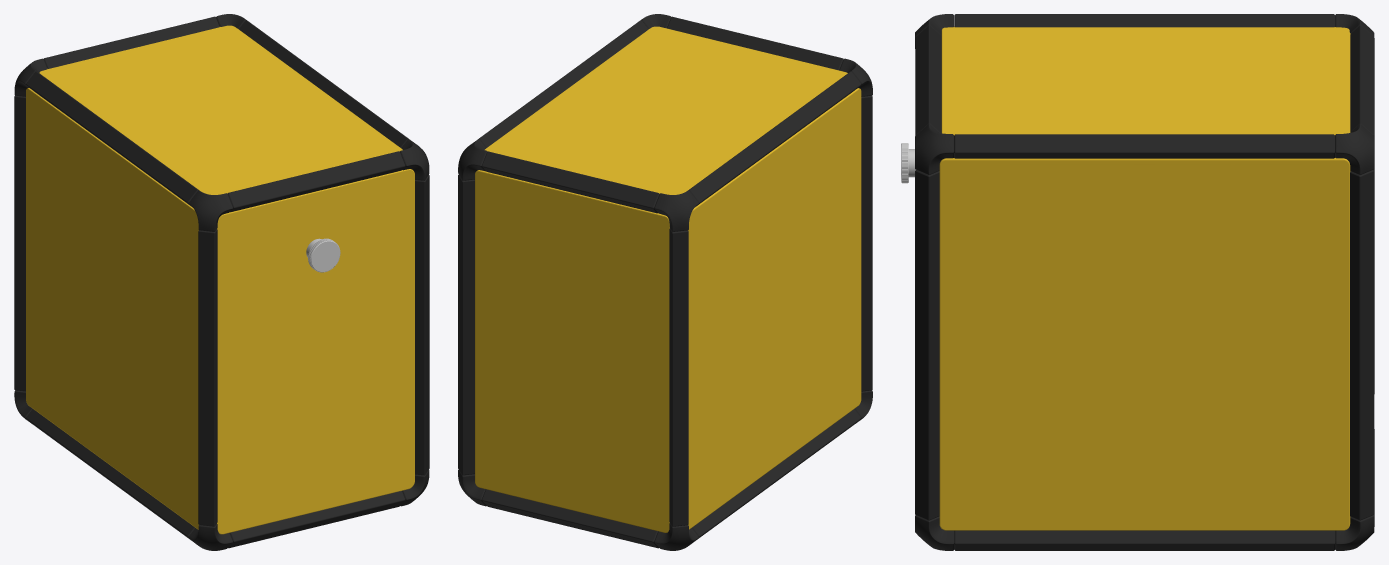
The picture shows the model from 3 angles, left to right: view 1: azimuth 30°, elevation 25°; view 2: azimuth 150°, elevation 25°; view 3: azimuth 270°, elevation 25°; orthographic projection. The views are drawn at different scales.
Visible parts, largest first — view 1: 229x374x374; view 2: 229x374x374; view 3: 229x374x374.
Part boxes in pixels (x1,y1,x2,y2): 229x374x374: (14,14,429,550); 229x374x374: (458,14,872,550); 229x374x374: (901,14,1374,550).
Size of the model in its own units: 0.3067 by 0.4516 by 0.4646.
